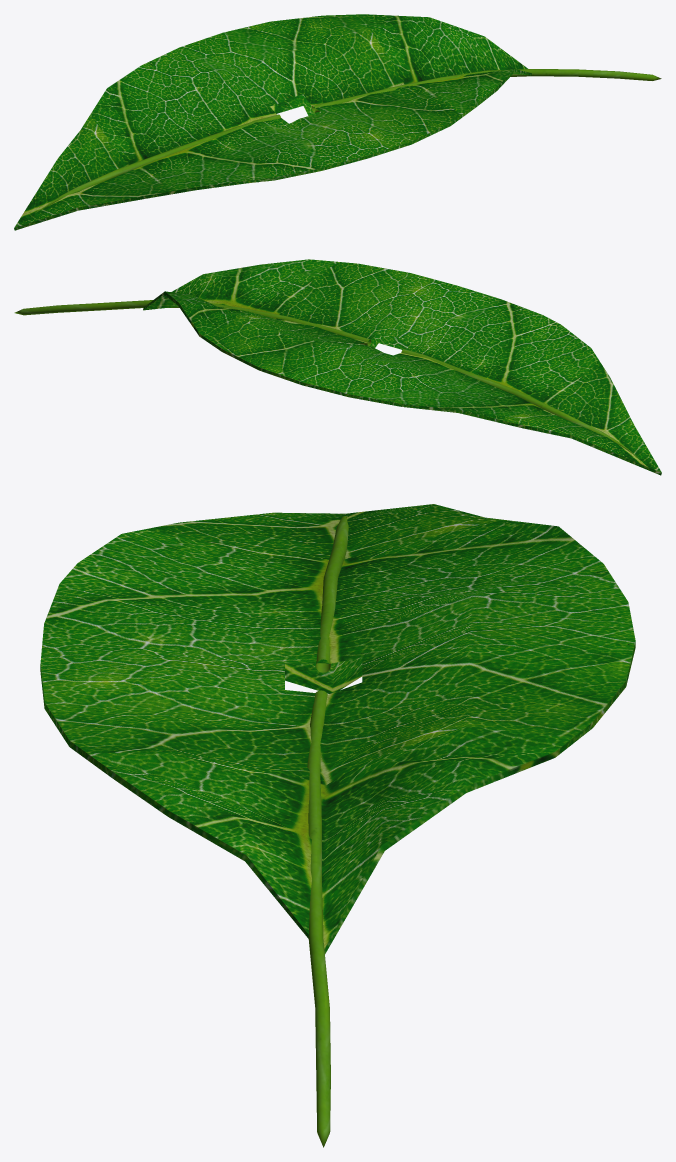
Rendered from Daun_Bolong.fbx.
3 views of the same model, one above another, from view 1: azimuth 30°, elevation 25°; view 2: azimuth 150°, elevation 25°; view 3: azimuth 270°, elevation 25° (orthographic). The views are drawn at different scales.
Visible parts, largest first — view 1: Daun; view 2: Daun; view 3: Daun.
Part boxes in pixels (x1,y1,x2,y2): Daun: (14, 14, 661, 230); Daun: (14, 259, 661, 475); Daun: (40, 504, 635, 1147).
Bounding box in the file's own units: 250 × 32.49 × 100.
